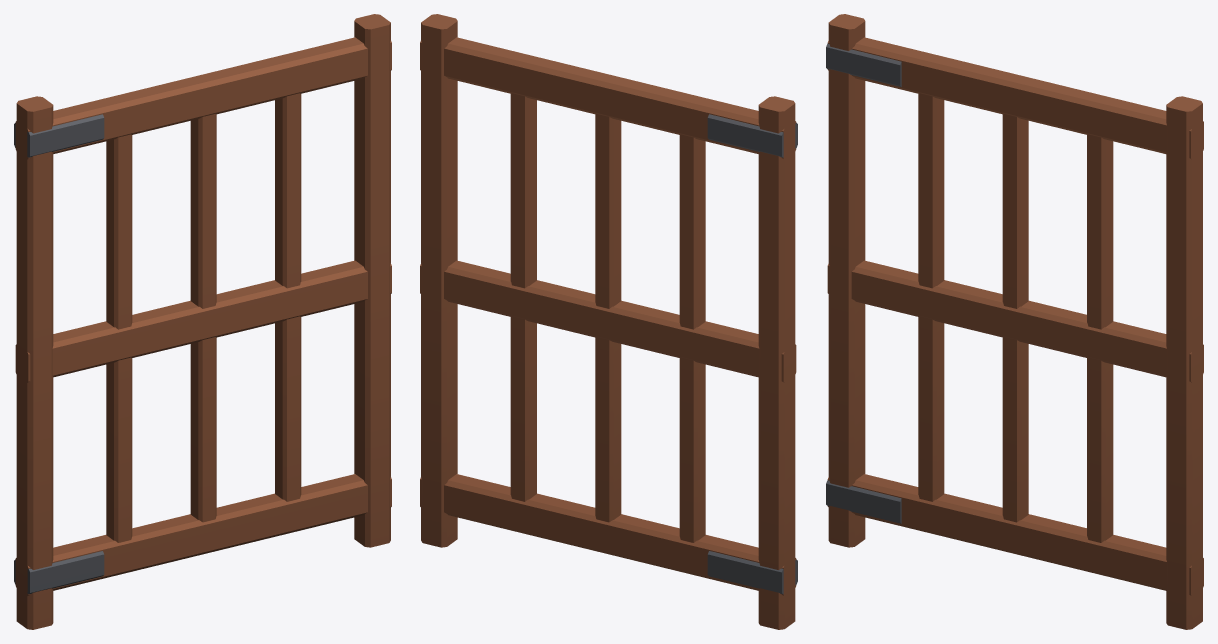
The model's file is wall_cave_gate_leaf_A.glb.
The picture shows the model from 3 angles, left to right: view 1: azimuth 30°, elevation 25°; view 2: azimuth 150°, elevation 25°; view 3: azimuth 330°, elevation 25°; orthographic projection.
Visible parts, largest first — view 1: Item; view 2: Item; view 3: Item.
Boxes of the visible parts, left/top/right/bottom form: Item: left=14, top=14, right=391, bottom=629; Item: left=420, top=14, right=797, bottom=629; Item: left=826, top=14, right=1203, bottom=629.
Size of the model in its own units: 1.96 by 2.67 by 0.15.
2 materials, 2 textured.
